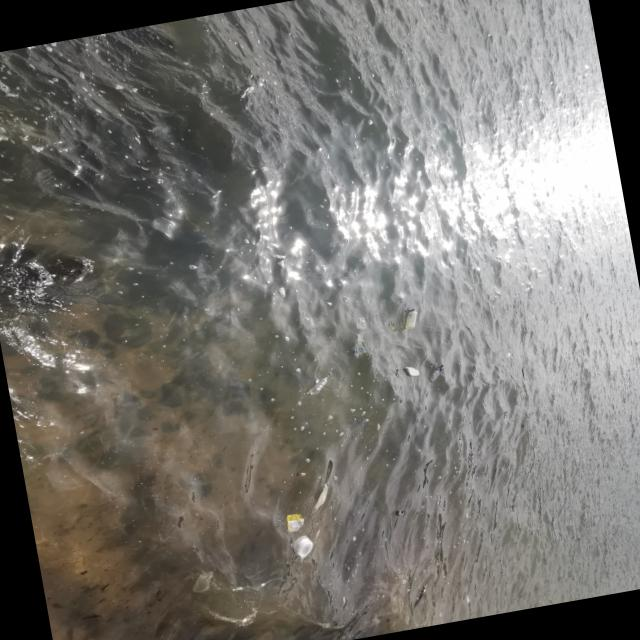foam: (289, 535, 317, 564), (404, 366, 420, 378)
plastic bottle: (305, 375, 331, 397), (402, 309, 420, 330), (427, 365, 446, 384)
